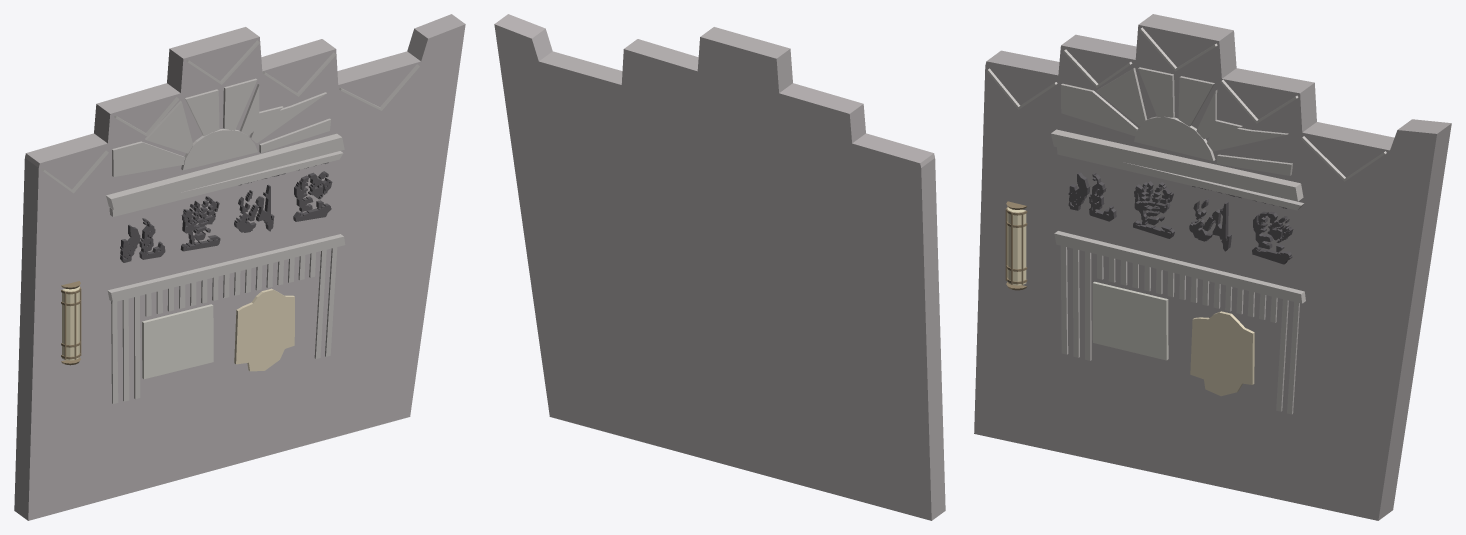
File: lod-source.glb
The picture shows the model from 3 angles, left to right: view 1: azimuth 30°, elevation 25°; view 2: azimuth 150°, elevation 25°; view 3: azimuth 330°, elevation 25°; orthographic projection. The views are drawn at different scales.
Parts seen in each view (by area): view 1: 兆丰别墅长宁路弄口题名墙; view 2: 兆丰别墅长宁路弄口题名墙; view 3: 兆丰别墅长宁路弄口题名墙.
Part boxes in pixels (x1,y1,x2,y2): 兆丰别墅长宁路弄口题名墙: [14, 14, 465, 520]; 兆丰别墅长宁路弄口题名墙: [494, 14, 945, 520]; 兆丰别墅长宁路弄口题名墙: [974, 14, 1451, 520].
Size of the model in its own units: 4.17 by 3.89 by 0.3297.
